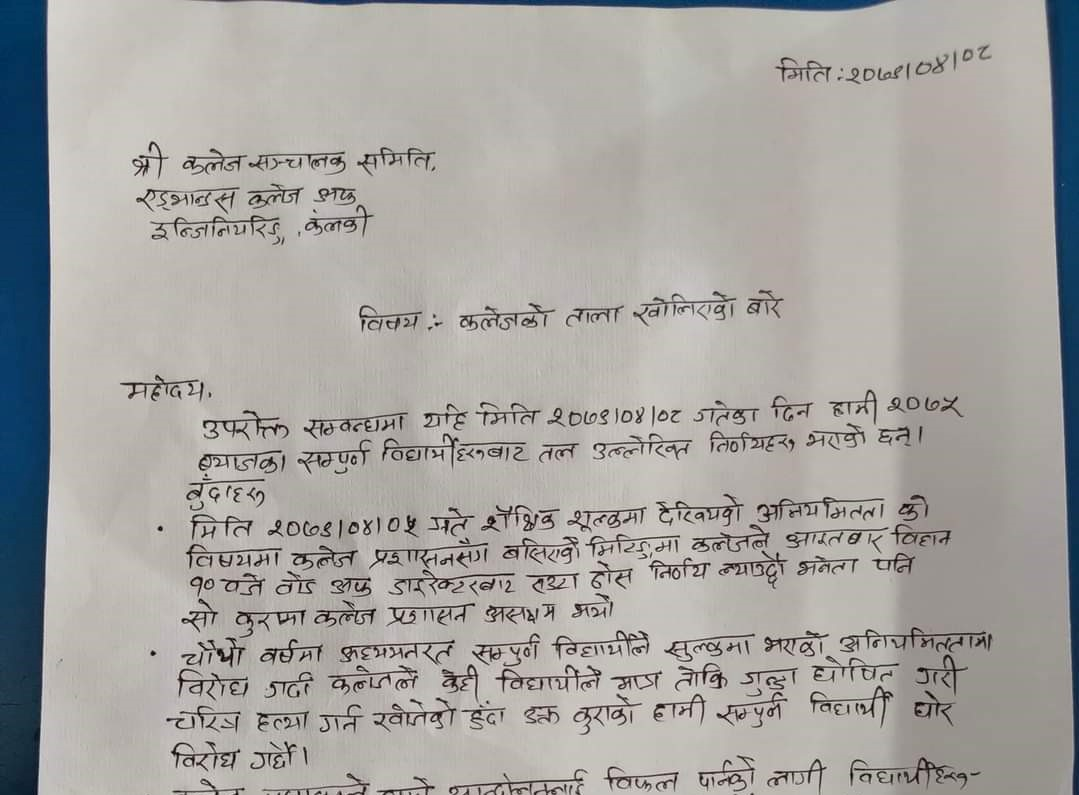text: (844, 42, 998, 85), (380, 433, 529, 467), (149, 214, 289, 250), (837, 625, 996, 654), (847, 755, 969, 792), (629, 290, 739, 328), (387, 567, 516, 599), (261, 515, 420, 539), (368, 538, 489, 569), (497, 664, 603, 697), (590, 430, 693, 463), (807, 686, 894, 725), (198, 408, 292, 444), (553, 627, 652, 661), (755, 497, 884, 523), (545, 404, 684, 428), (337, 637, 452, 666), (183, 473, 266, 513), (372, 697, 458, 733), (246, 147, 349, 177), (653, 493, 743, 526), (295, 438, 372, 476), (183, 541, 280, 571), (131, 186, 237, 213), (457, 302, 552, 332), (664, 632, 752, 664), (570, 693, 637, 735), (500, 532, 580, 567), (327, 664, 420, 694), (174, 664, 249, 701), (713, 693, 788, 730), (298, 413, 408, 437), (586, 533, 683, 560), (715, 550, 785, 587), (469, 631, 542, 666), (196, 447, 288, 474), (706, 430, 798, 457), (478, 503, 558, 534), (696, 753, 755, 795), (120, 373, 205, 402), (564, 504, 646, 534), (165, 704, 241, 736), (784, 527, 885, 551), (809, 656, 895, 684), (689, 524, 771, 553), (171, 739, 239, 773), (385, 602, 469, 629), (356, 145, 433, 174), (605, 765, 679, 795), (764, 757, 825, 793), (303, 209, 371, 241), (355, 303, 423, 335), (234, 607, 306, 636), (180, 147, 245, 179), (188, 512, 253, 544), (178, 638, 244, 669), (258, 636, 321, 668), (760, 629, 826, 659), (691, 399, 758, 428), (244, 181, 303, 213), (483, 601, 558, 626), (288, 544, 360, 570), (774, 55, 834, 86), (805, 424, 869, 453), (313, 602, 377, 631), (909, 687, 955, 727), (476, 398, 538, 427), (651, 693, 707, 725), (673, 661, 730, 692), (127, 139, 167, 182), (884, 394, 962, 416), (828, 387, 881, 419), (738, 667, 795, 696), (263, 671, 316, 702), (247, 741, 298, 773), (795, 554, 860, 579), (649, 556, 709, 583), (915, 654, 961, 688), (889, 525, 953, 549), (421, 402, 470, 433), (252, 708, 310, 734), (178, 599, 218, 635), (438, 664, 483, 696), (563, 304, 625, 327), (426, 504, 469, 536), (743, 289, 782, 324), (463, 701, 507, 732), (220, 570, 267, 599), (588, 561, 633, 590), (569, 593, 615, 621), (318, 703, 360, 733), (271, 572, 319, 598), (329, 574, 374, 601), (769, 394, 812, 422), (527, 572, 578, 595), (896, 491, 932, 523), (872, 551, 918, 576), (520, 702, 563, 727), (536, 440, 578, 464), (312, 186, 357, 208), (613, 672, 660, 693), (875, 427, 914, 450), (183, 574, 215, 599)
